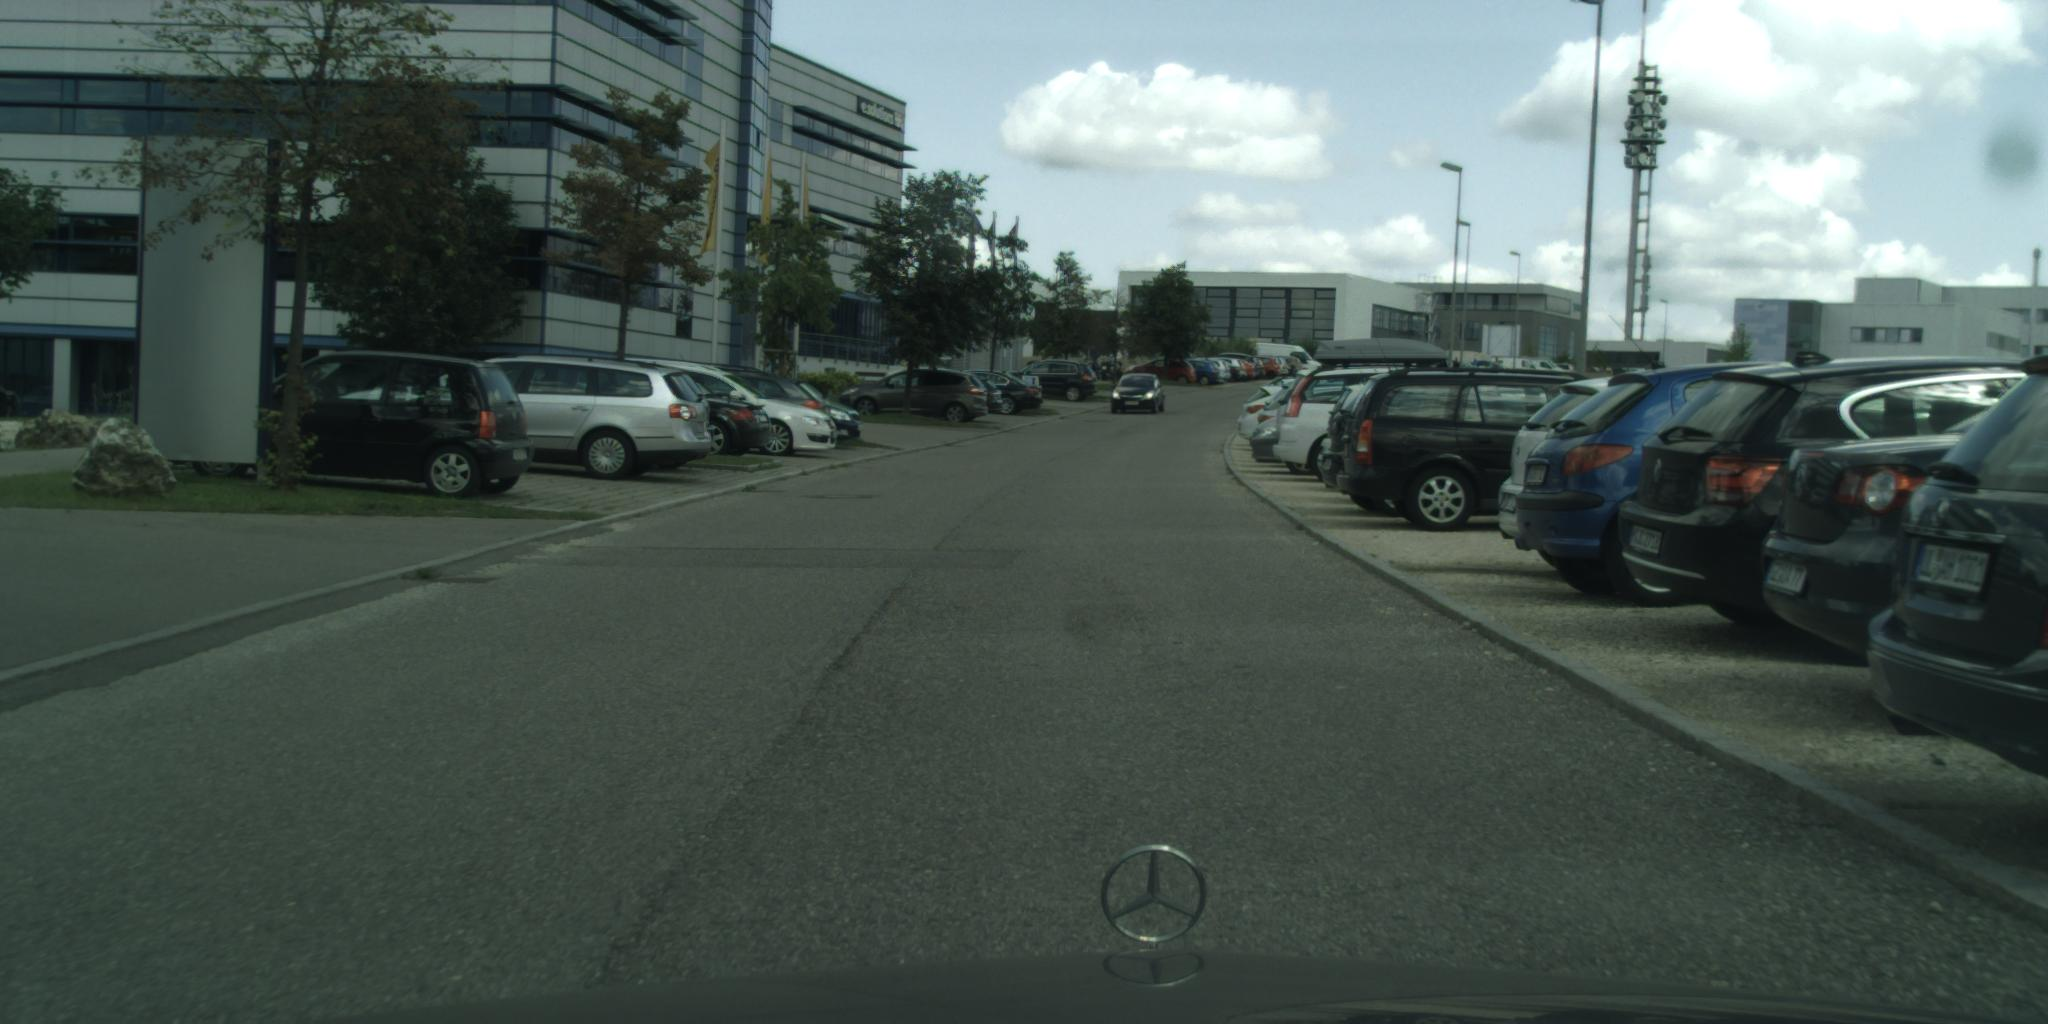car: (1618, 351, 2034, 640), (1870, 355, 2045, 781), (1763, 398, 2014, 667), (1516, 362, 1789, 602), (193, 353, 536, 500), (1337, 372, 1599, 538), (1498, 372, 1650, 573), (482, 357, 713, 481), (622, 360, 839, 458), (1499, 379, 1599, 555), (707, 372, 865, 444), (836, 368, 989, 424), (684, 379, 775, 461), (1002, 362, 1102, 402), (1112, 372, 1168, 417), (1255, 344, 1322, 372)
